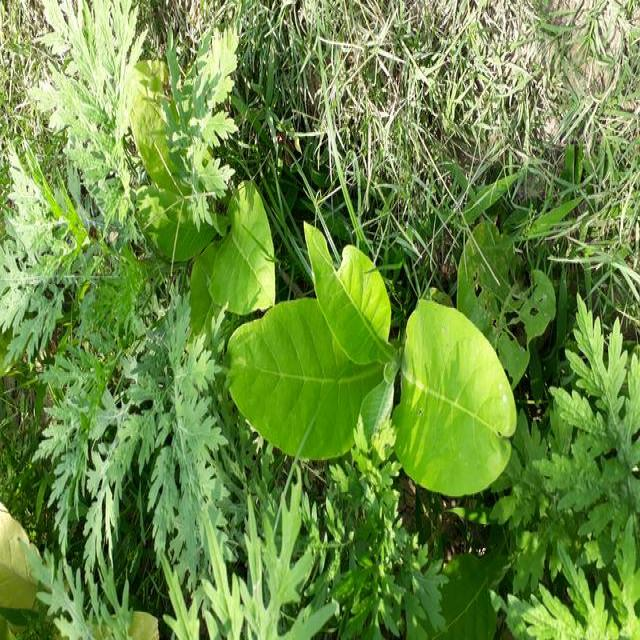crop: (225, 223, 512, 482), (130, 100, 270, 310), (416, 552, 508, 640), (0, 488, 52, 611)
